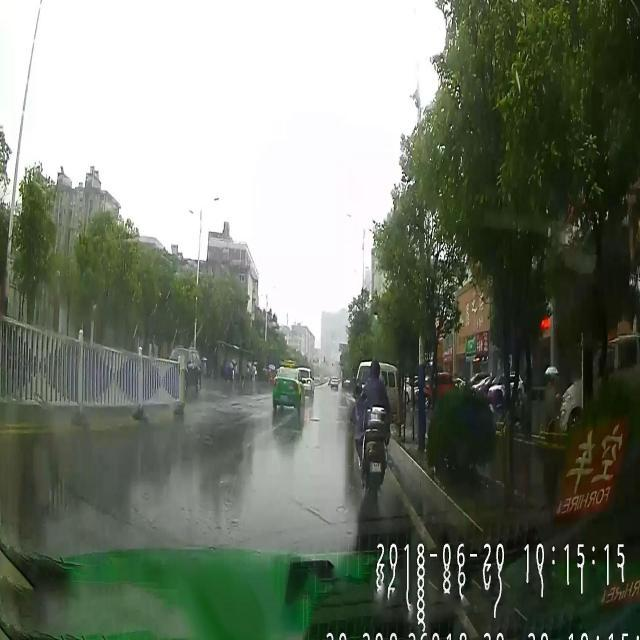car: (356, 360, 406, 424), (164, 342, 203, 392), (272, 360, 306, 414), (296, 365, 315, 400)
